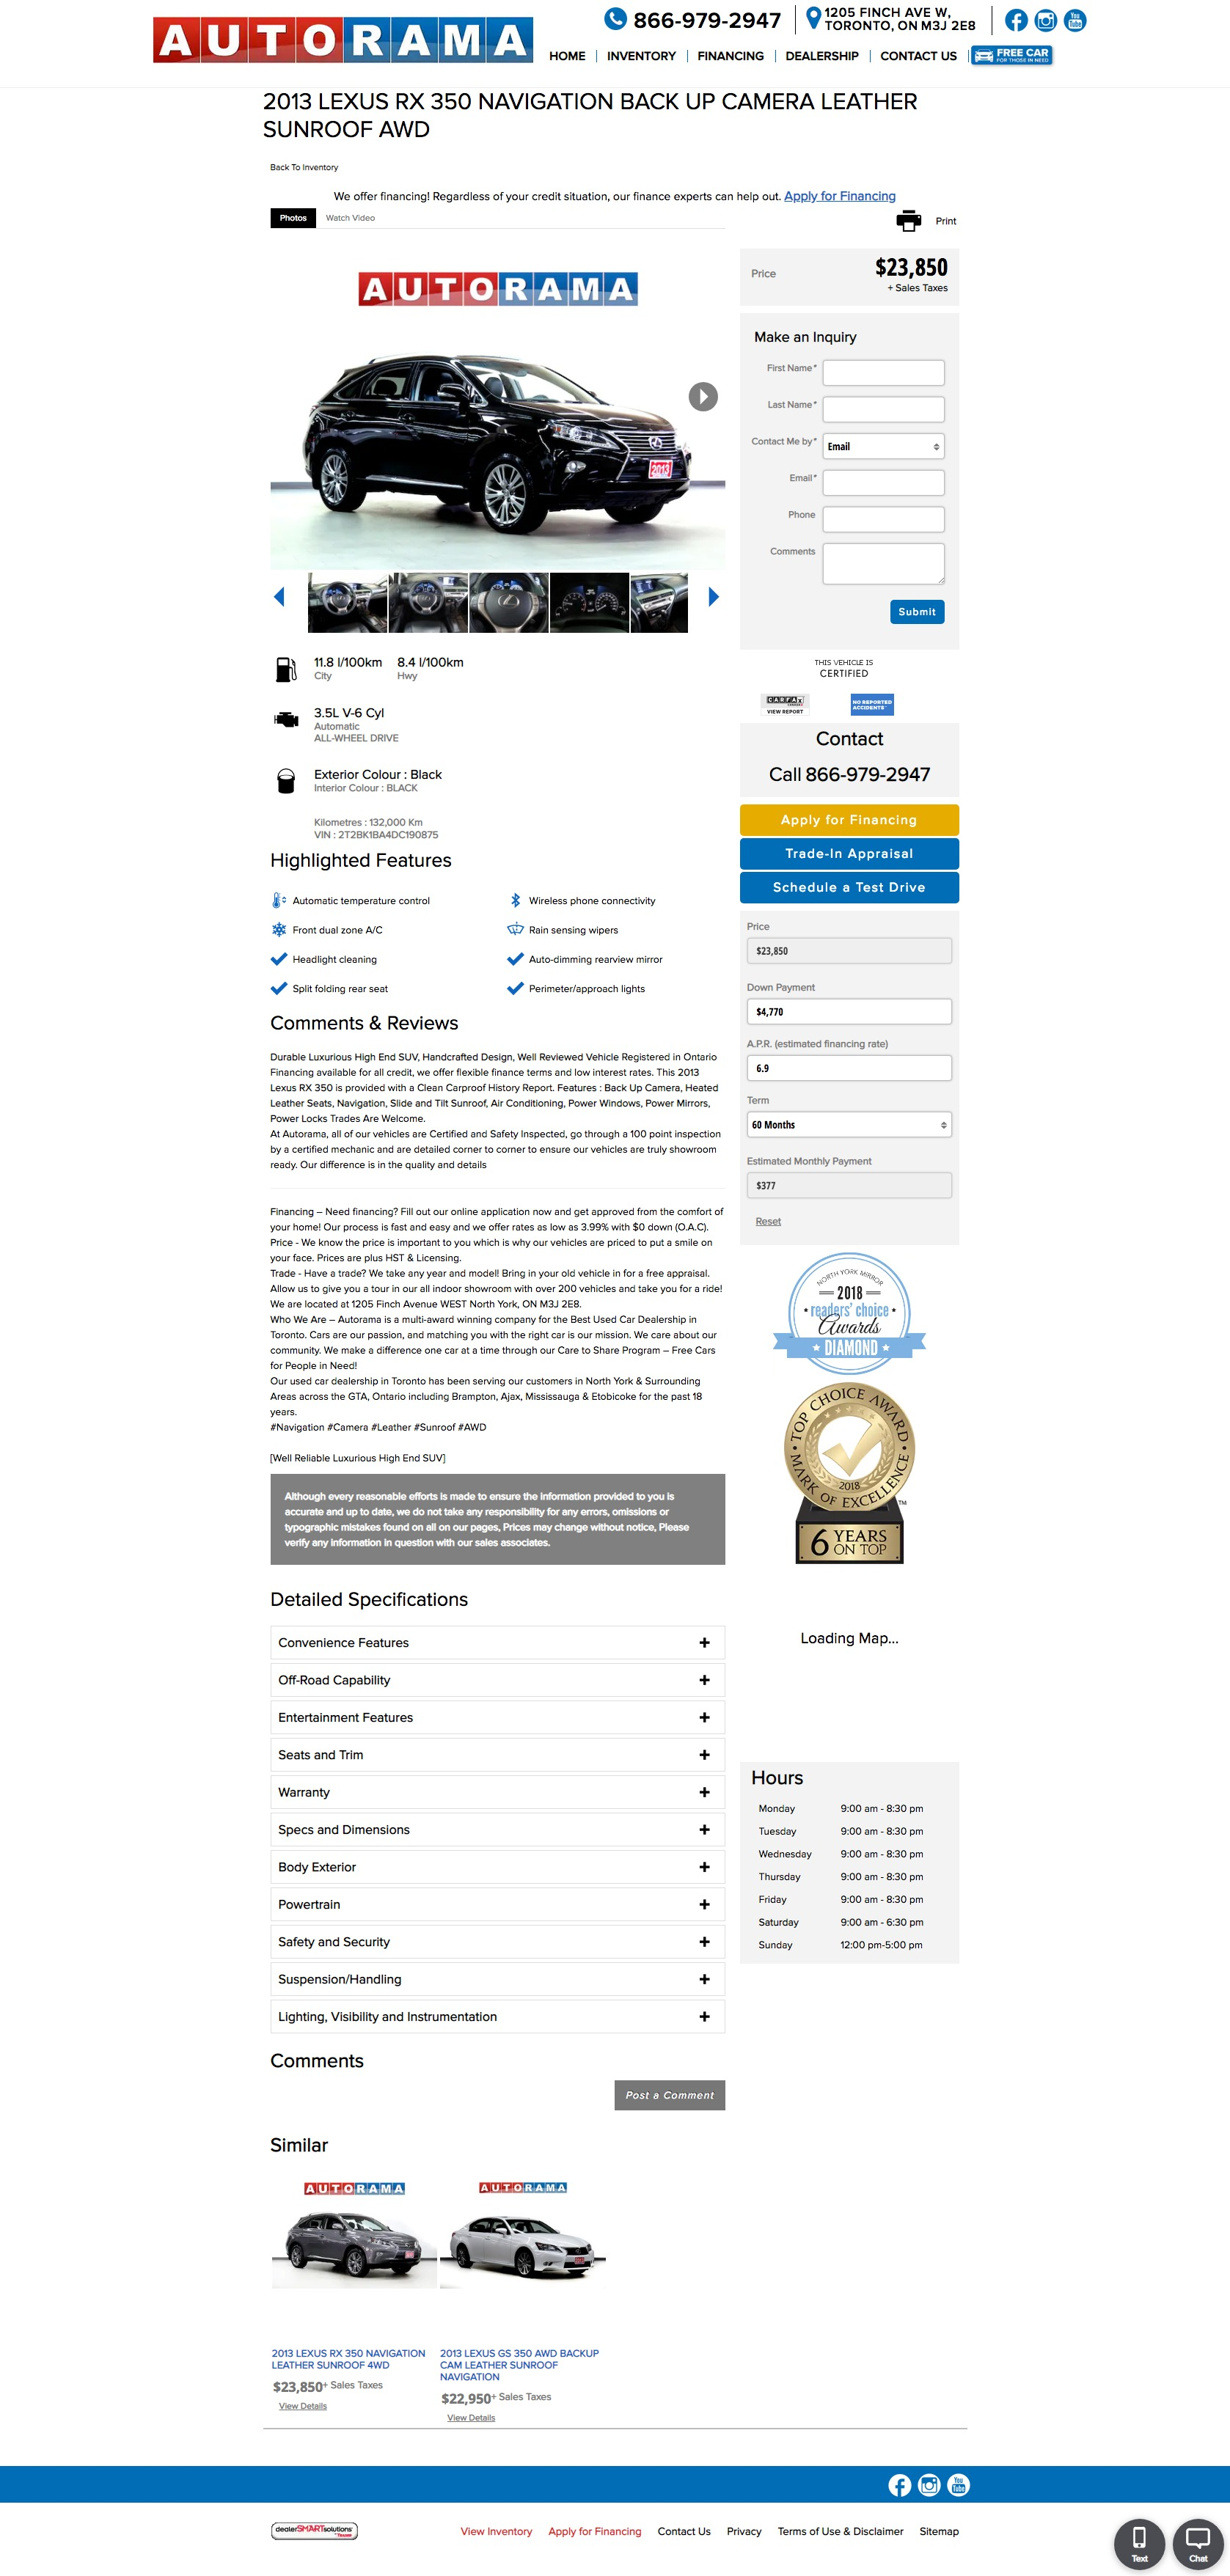car: (708, 586, 721, 608)
